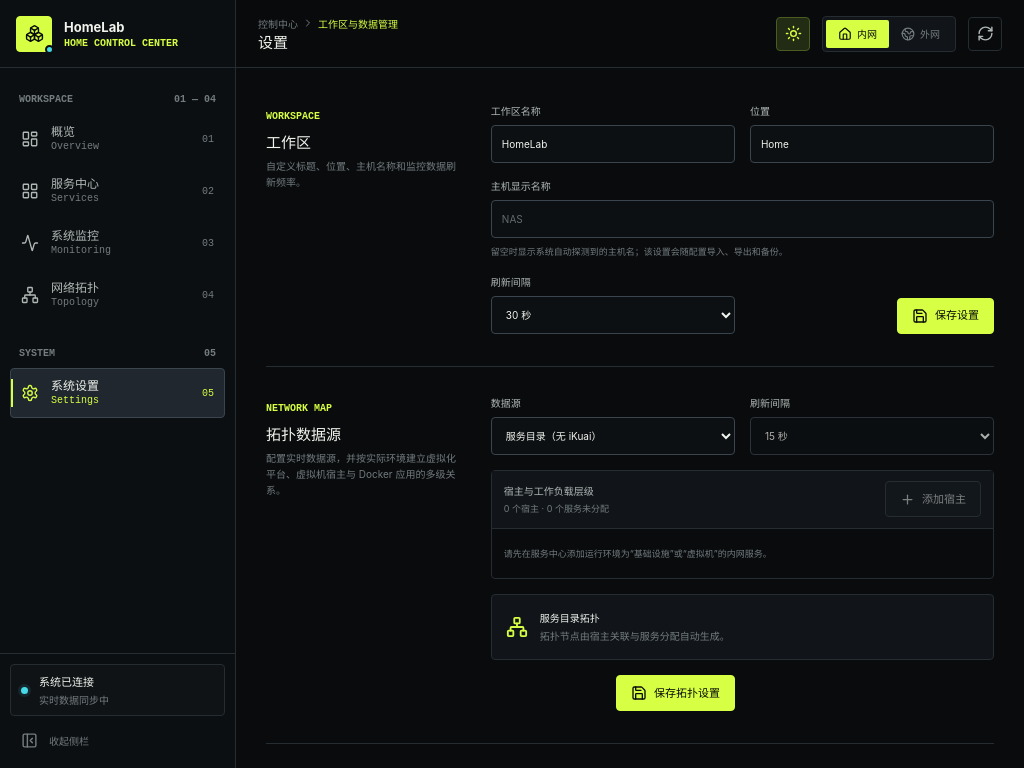
Test: App config freshness › reloads the latest config after a stale save is rejected
Click the button "保存设置".
click(946, 316)  # box [897, 298, 994, 334]
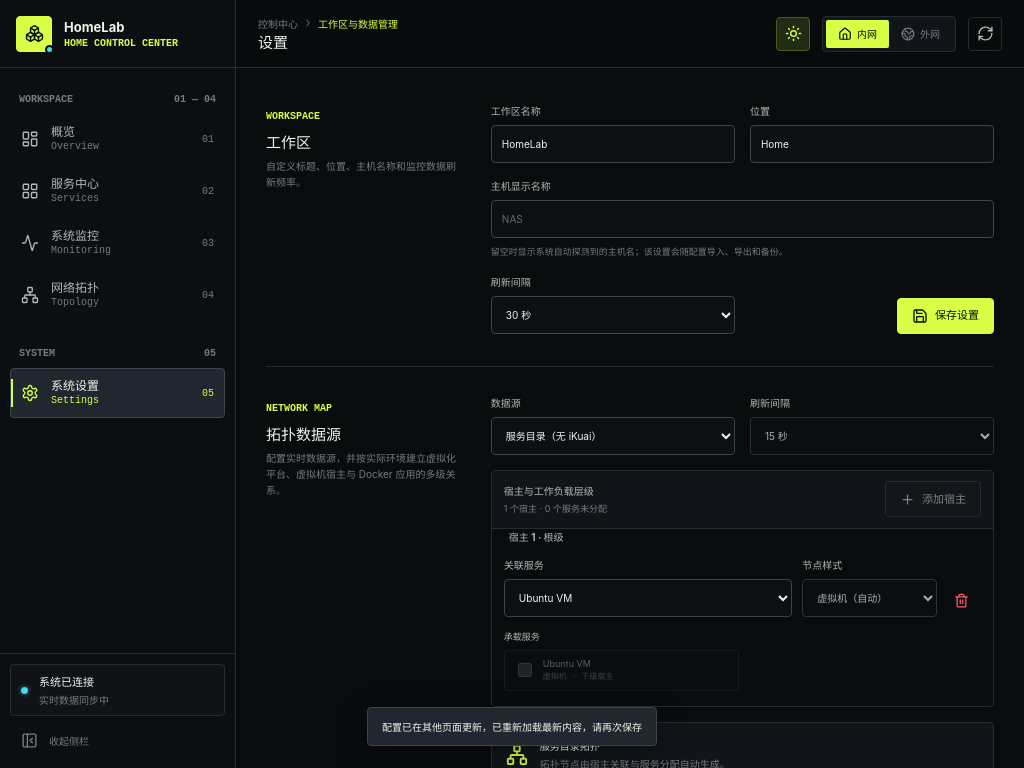
expect the text "配置已在其他页面更新，已重新加载最新内容，请再次保存" is shown: met, box [367, 707, 657, 746]
